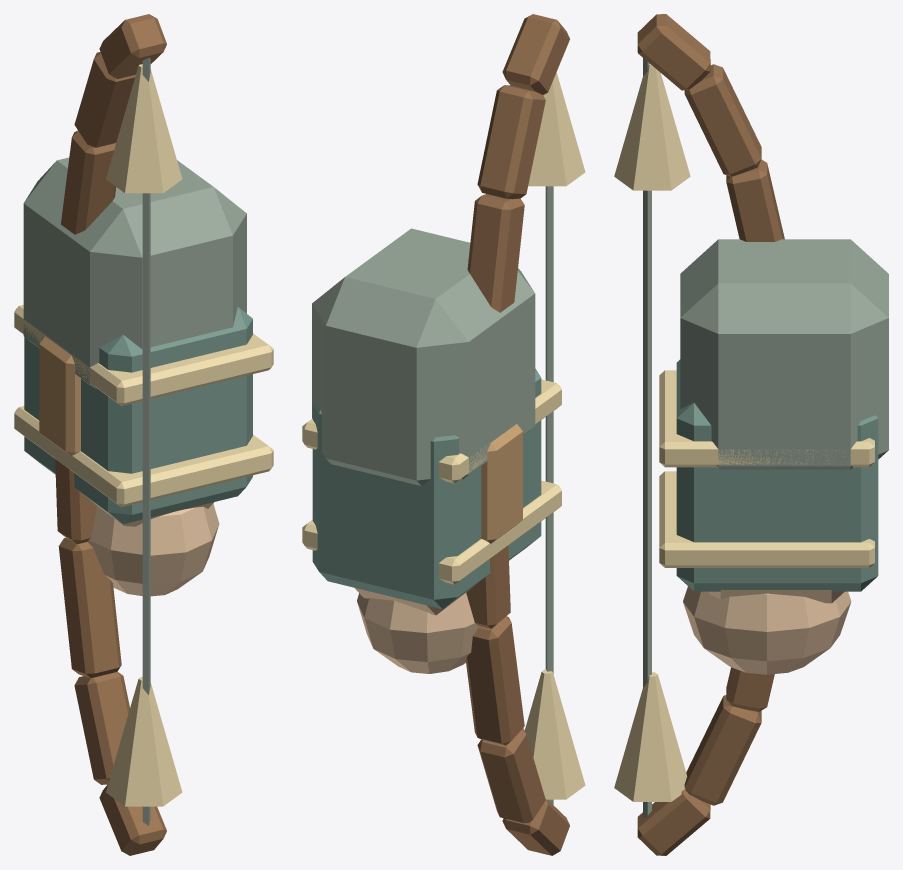
The model's file is Dragon_Archer_LeftArm.fbx.
The picture shows the model from 3 angles, left to right: view 1: azimuth 30°, elevation 25°; view 2: azimuth 150°, elevation 25°; view 3: azimuth 270°, elevation 25°; orthographic projection.
Visible parts, largest first — view 1: Dragon_Archer_LeftArm; view 2: Dragon_Archer_LeftArm; view 3: Dragon_Archer_LeftArm.
Boxes of the visible parts, <box> form: Dragon_Archer_LeftArm: <box>14,14,273,855</box>; Dragon_Archer_LeftArm: <box>302,14,585,855</box>; Dragon_Archer_LeftArm: <box>614,14,888,855</box>.
Bounding box in the file's own units: 27.26 × 132 × 39.5.
